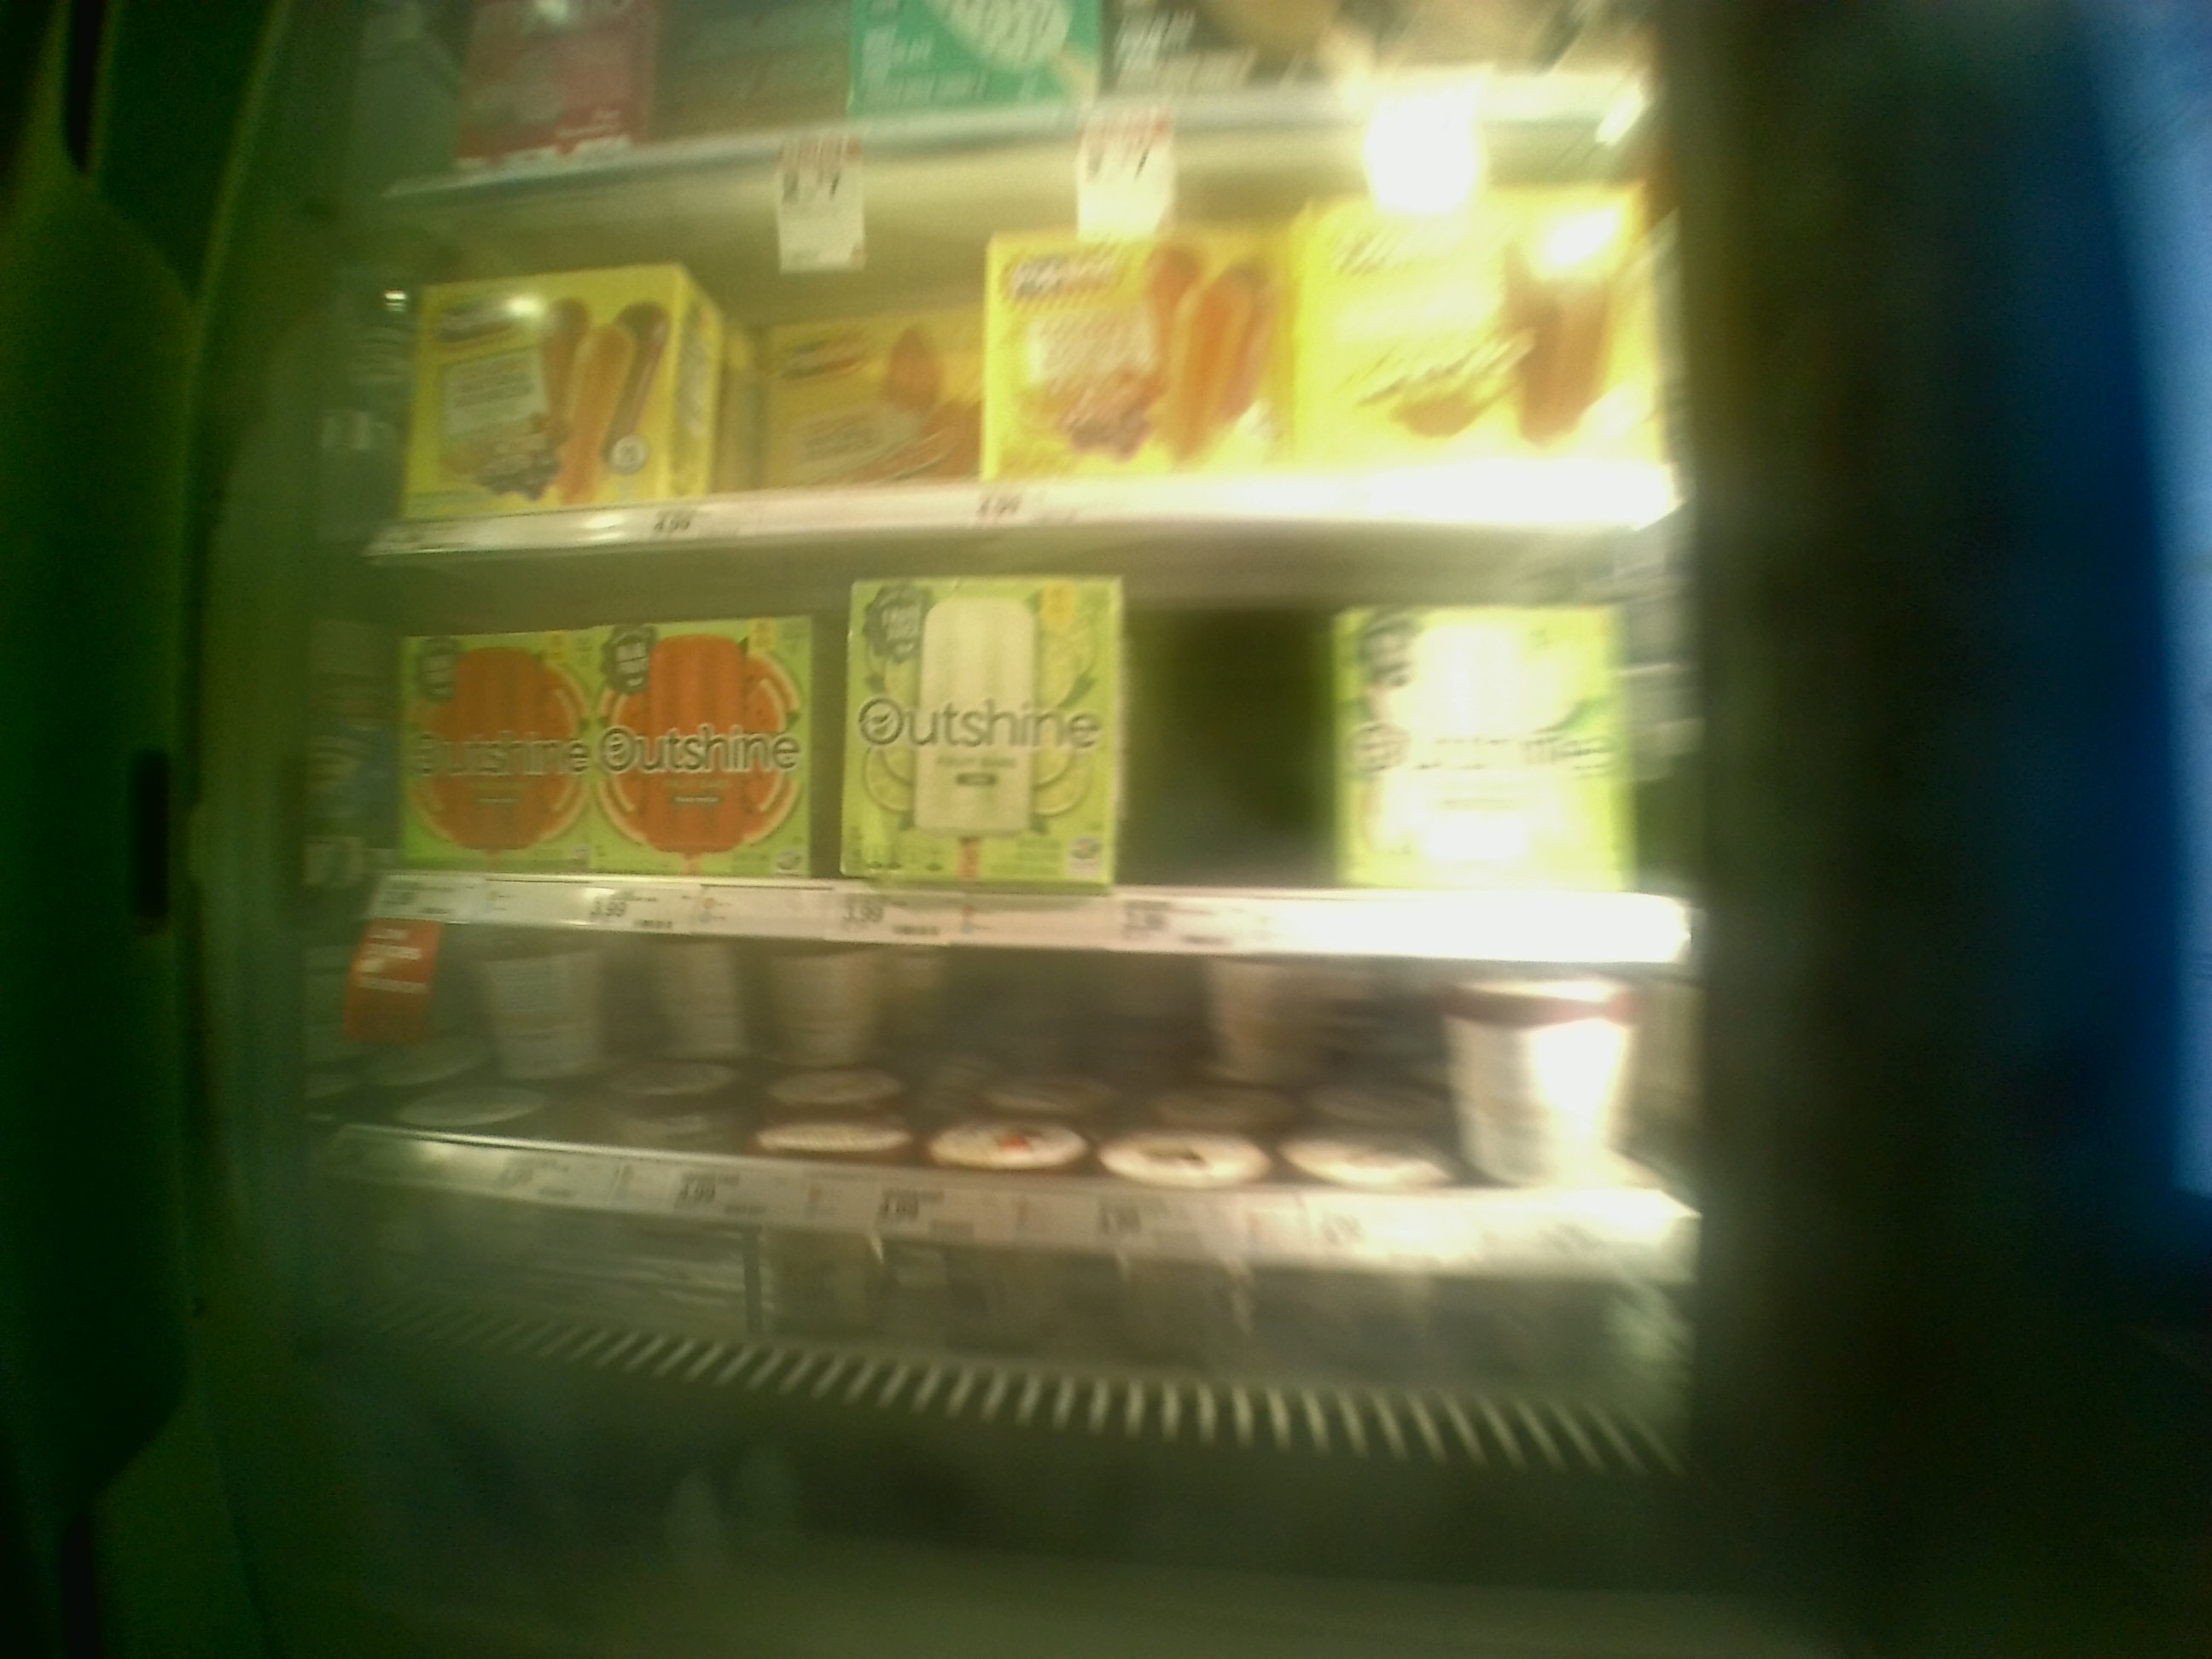shelf: (366, 929, 1714, 1349), (371, 552, 1696, 953)
